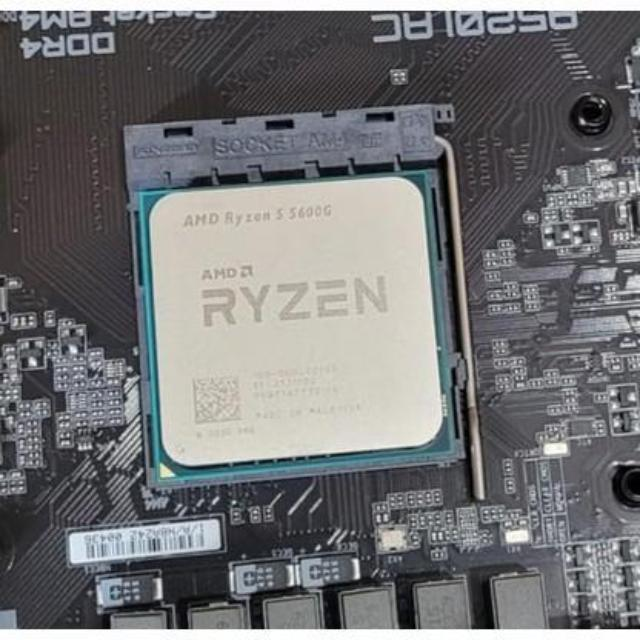CPU: (138, 177, 446, 471)
